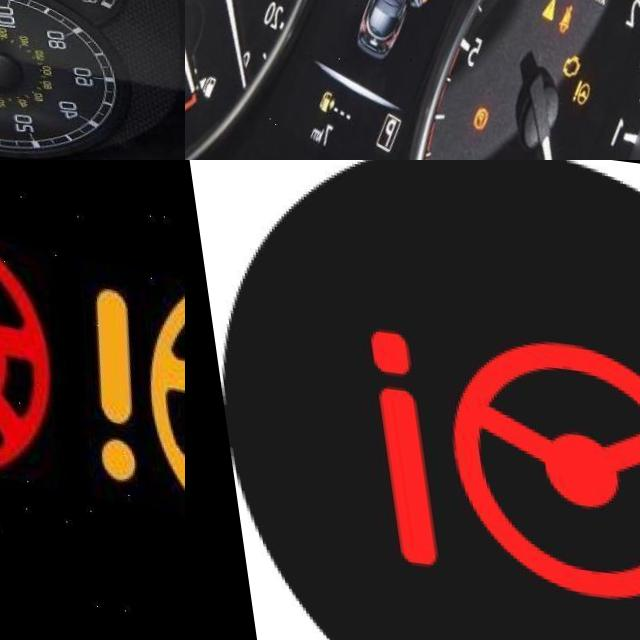Electronic Power Steering Warning: (361, 314, 640, 601), (67, 249, 185, 549), (0, 203, 56, 481), (561, 66, 586, 96)
Seat Belt: (546, 0, 571, 23)
